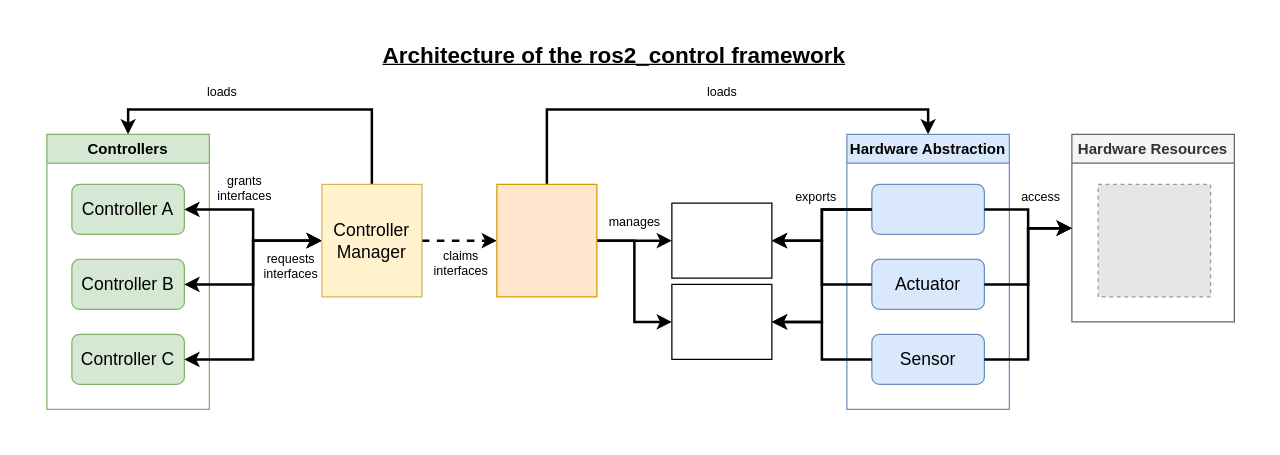
Some shapes in this 1280 by 455 pixel diagram are drawn without their labels. Grey dashed boxes stand in for pictures. Each missing label, with the centre of its shape:
Command Interface <read/write>: the point at 721,321
Resource Manager: the point at 546,240
State Interface <read only>: the point at 721,240
System: the point at 927,208
